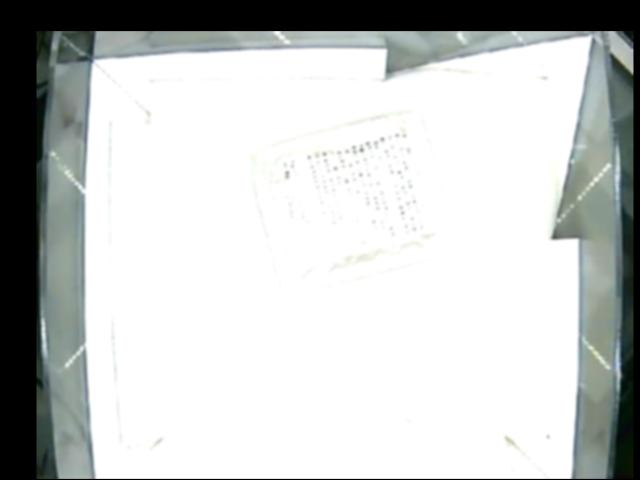Medicine: (253, 112, 458, 294)
